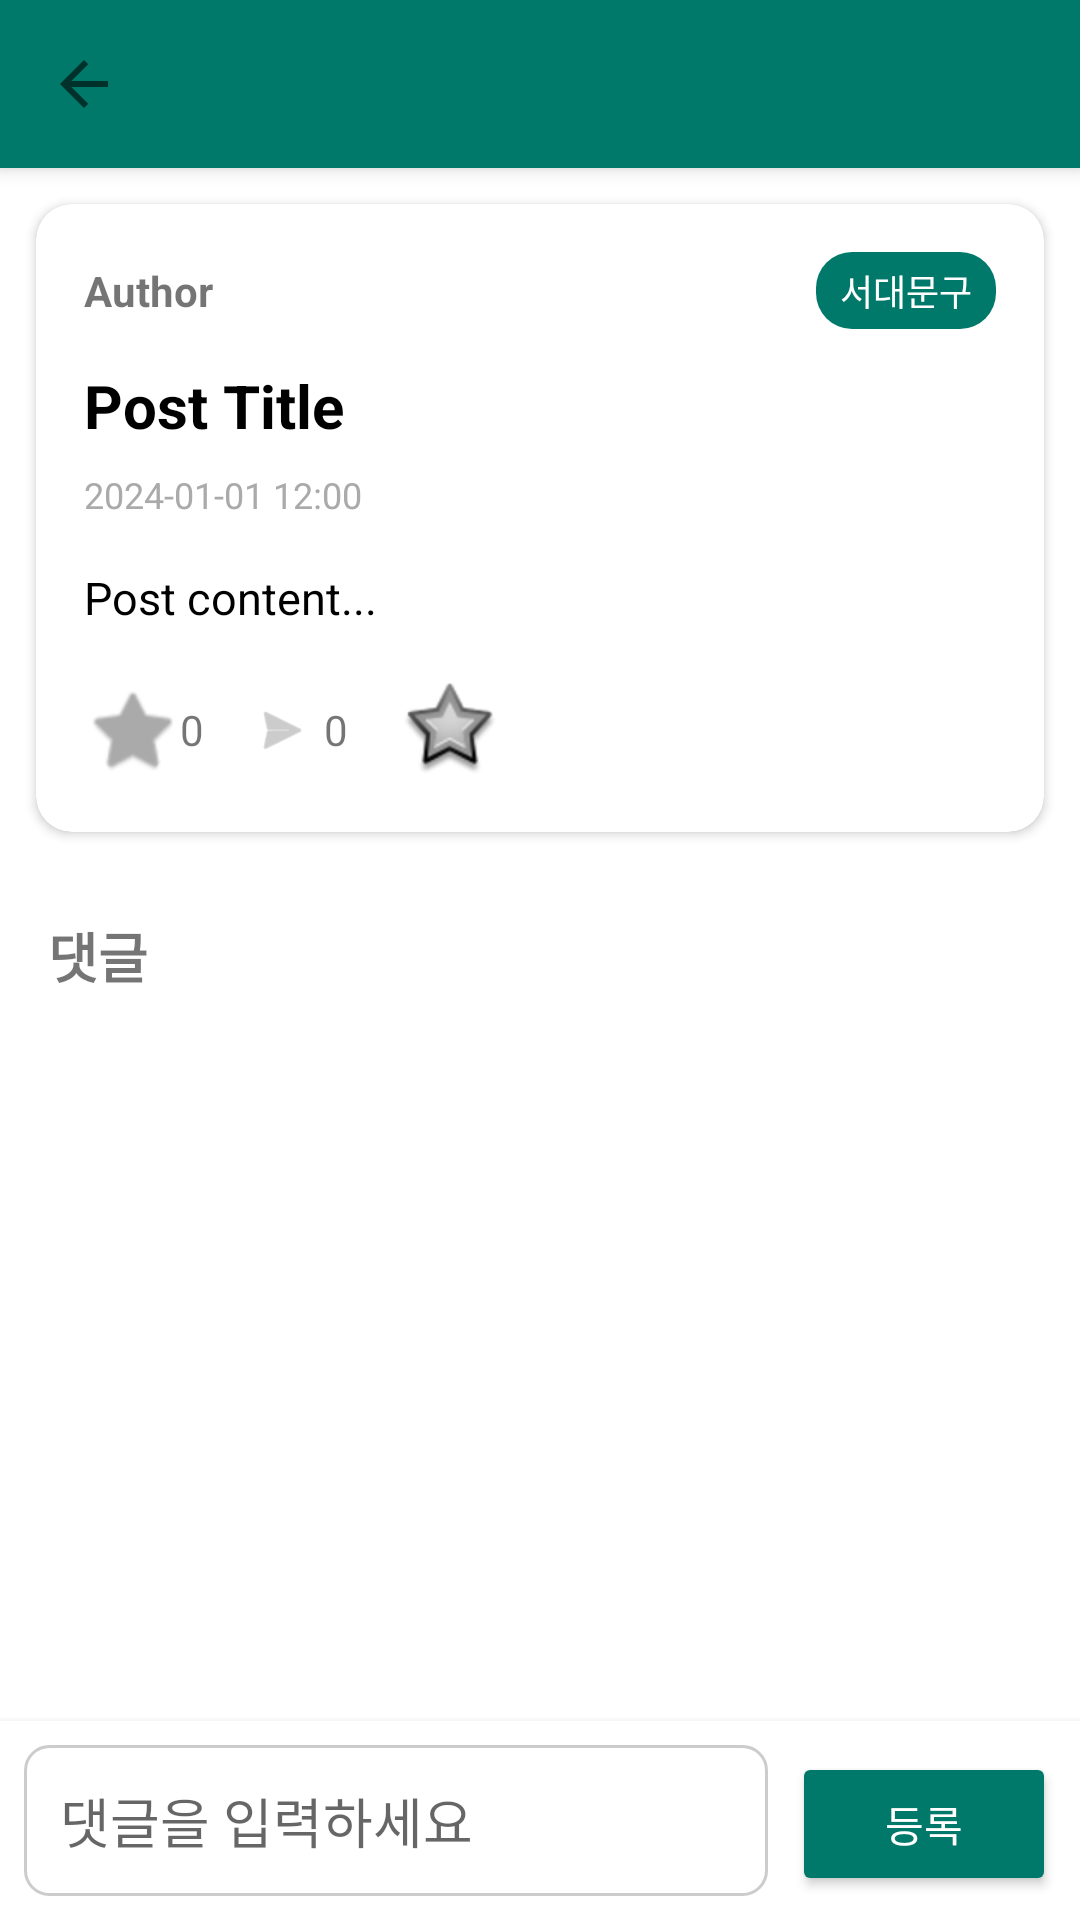

Where to tap for icons on this 1080*1920 app screen, as (x=x, y=y):
send: (x=282, y=730)
즐겨찾기: (x=450, y=726)
